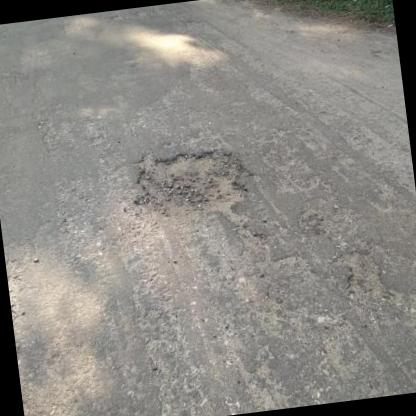pothole: (124, 138, 254, 232), (336, 248, 386, 302)
